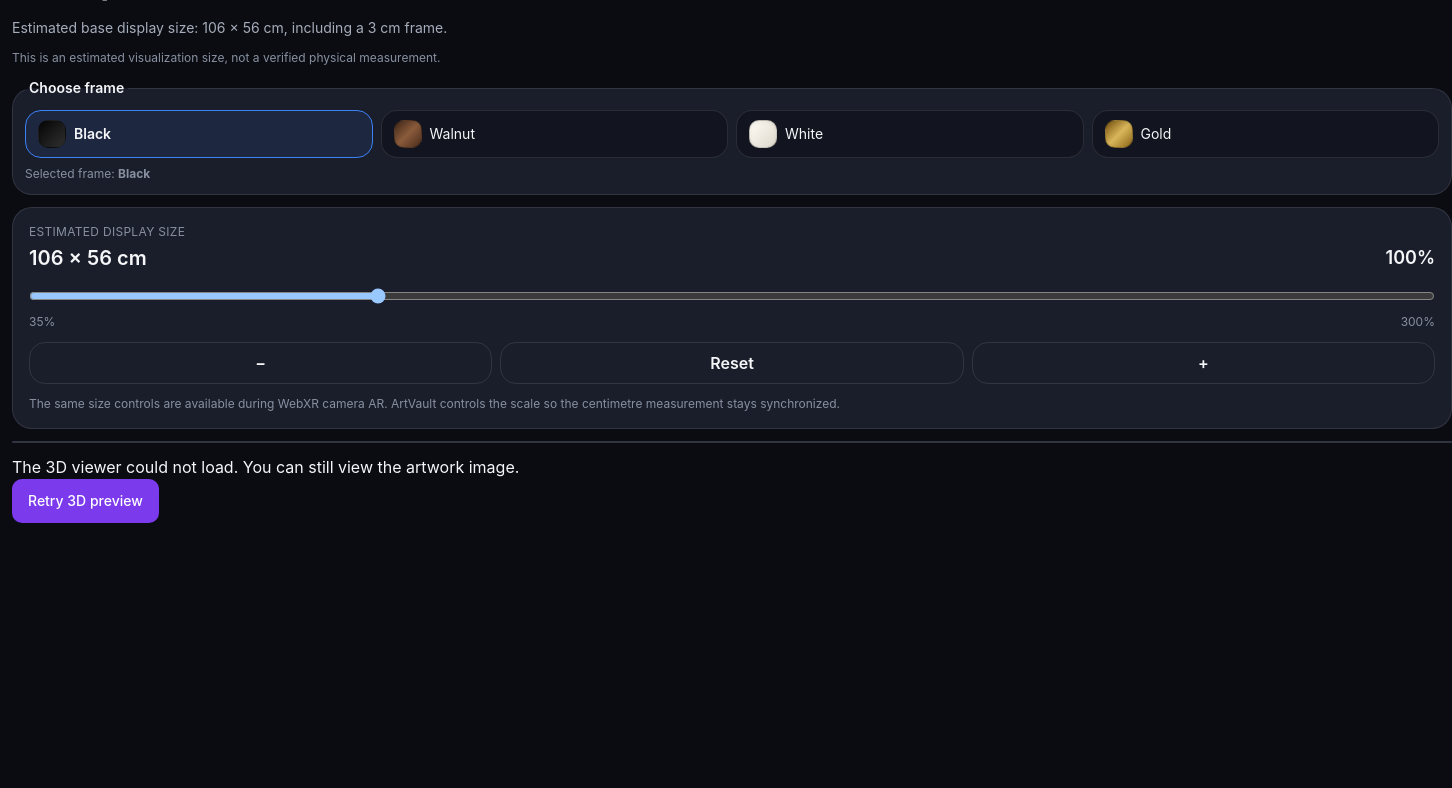
Test case: real AR viewer wrapper › retries a dependency download failure without reloading the page
Click the button "Retry 3D preview" at (85, 501), box x1=12 y1=479 x2=159 y2=523
(page scrolled)
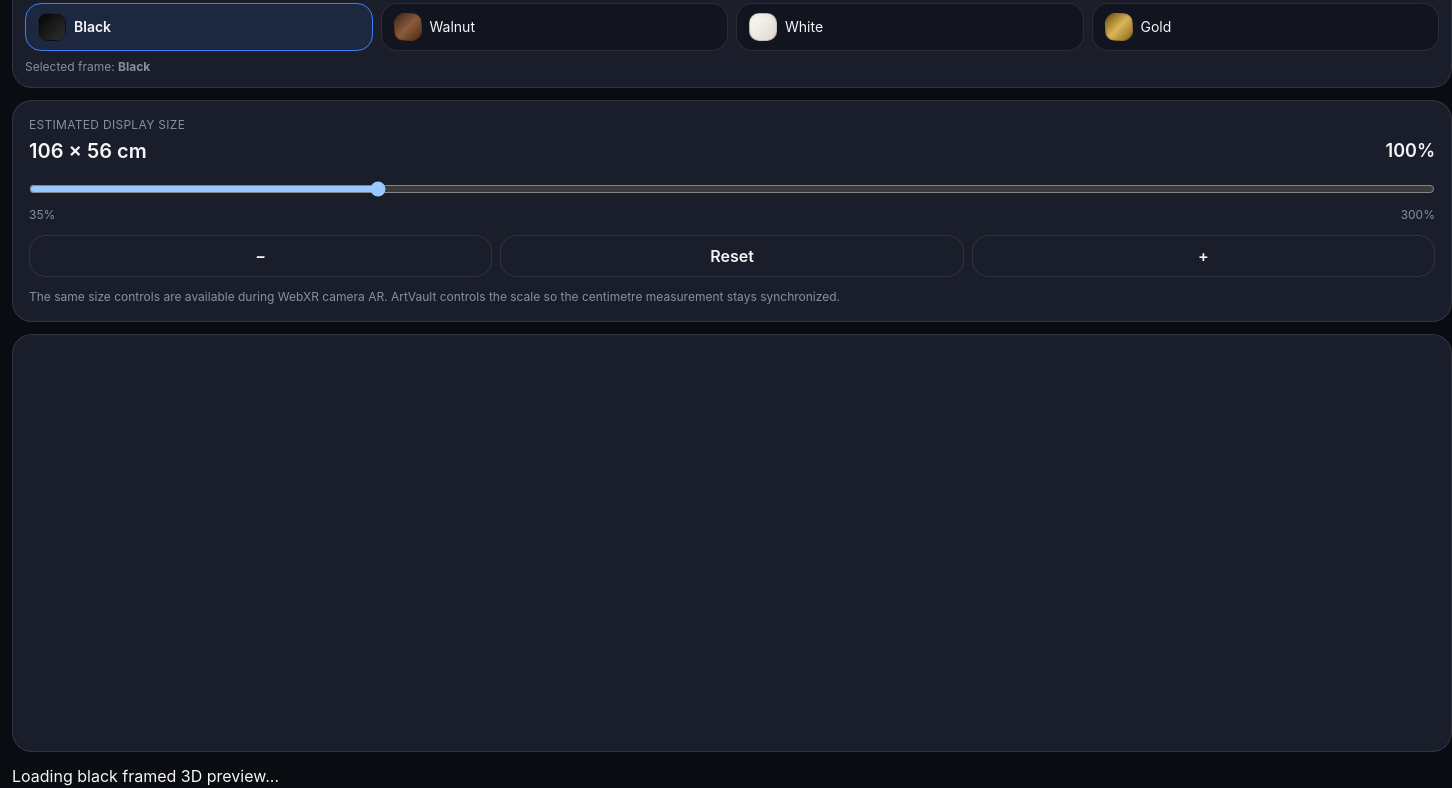
Check: the element named "Artwork - black framed artwork AR preview" is shown, box x1=13 y1=335 x2=1451 y2=751
